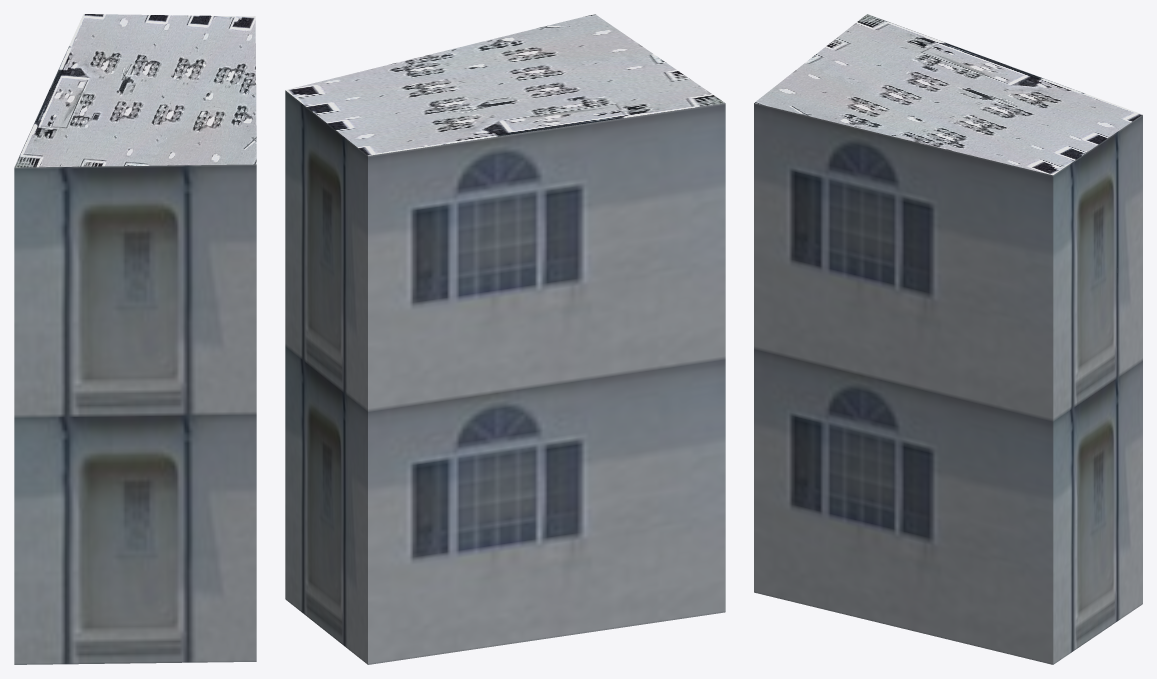
The model's file is ResTex__4862.fbx.
The picture shows the model from 3 angles, left to right: view 1: azimuth 30°, elevation 25°; view 2: azimuth 150°, elevation 25°; view 3: azimuth 270°, elevation 25°; orthographic projection. The views are drawn at different scales.
Visible parts, largest first — view 1: CityEngineMaterial_17_m, CityEngineMaterial_8_m; view 2: CityEngineMaterial_17_m, CityEngineMaterial_8_m; view 3: CityEngineMaterial_17_m, CityEngineMaterial_8_m.
Part boxes in pixels (box(x1,y1,x2,y2)): CityEngineMaterial_17_m: box(14, 164, 256, 664); CityEngineMaterial_8_m: box(14, 14, 256, 167); CityEngineMaterial_17_m: box(285, 90, 725, 664); CityEngineMaterial_8_m: box(285, 14, 725, 155); CityEngineMaterial_17_m: box(754, 103, 1142, 664); CityEngineMaterial_8_m: box(754, 14, 1142, 175).
Size of the model in its own units: 4.24 by 6 by 4.32.
2 materials, 2 textured.
